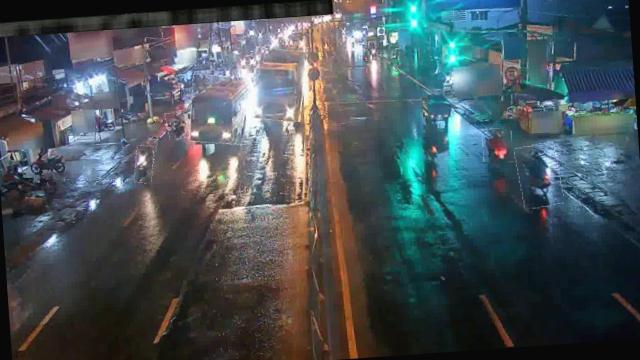Bike: (514, 142, 562, 208), (481, 127, 513, 164), (133, 144, 156, 184), (166, 110, 188, 140)
Bus: (187, 71, 255, 146)
Truck: (248, 46, 308, 124)
